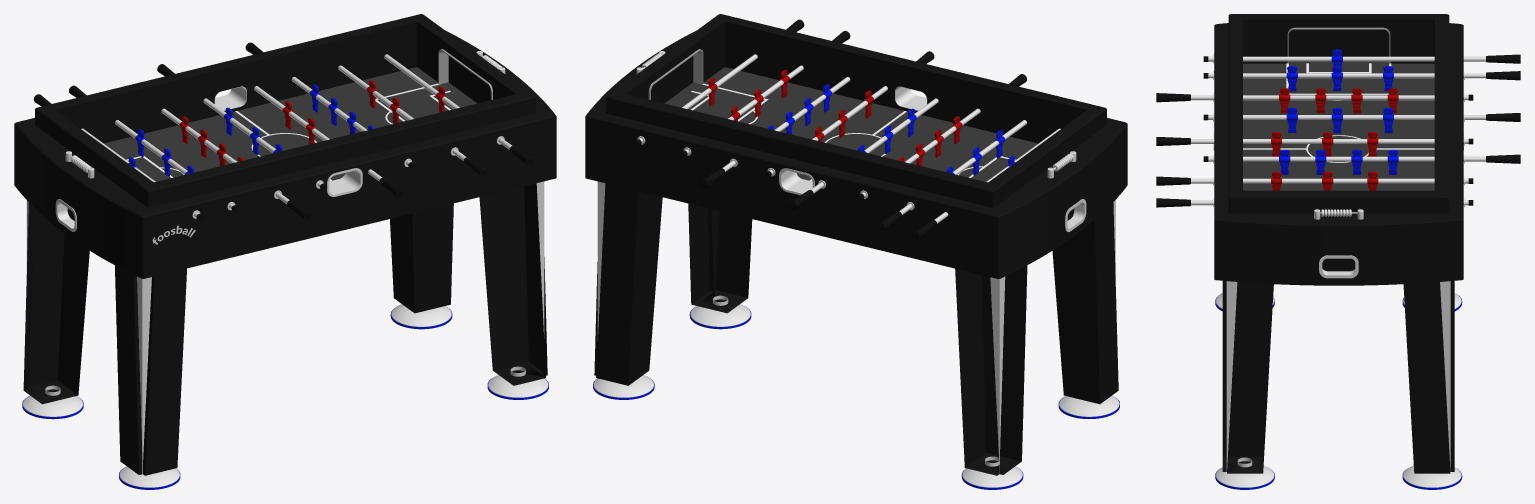
Rendered from foosball.glb.
3 renders of one model, left to right at view 1: azimuth 30°, elevation 25°; view 2: azimuth 150°, elevation 25°; view 3: azimuth 270°, elevation 25°, orthographic. The views are drawn at different scales.
Parts seen in each view (by area): view 1: Object_189, Box017_87, Plane002_86, Box023_6, Box024_18, Box025_10, Box026_17, Object_18, Box013_90, Line003_13, Line002_21, Line004_16 (+10 smaller); view 2: Object_189, Box017_87, Plane002_86, Box025_10, Box026_17, Box023_6, Box024_18, Object_26, Box013_90, Line002_21, Line003_13, Line001_9 (+10 smaller); view 3: Object_189, Box017_87, Plane002_86, Box026_17, Box024_18, foosball elements071_73, foosball elements059_92, foosball elements076_68, foosball elements074_70, foosball elements075_69, foosball elements087_57, foosball elements081_63 (+8 smaller).
Boxes of the visible parts, <box> form: Object_189: <box>14,31,556,278</box>; Box017_87: <box>35,14,535,207</box>; Plane002_86: <box>104,67,477,181</box>; Box023_6: <box>115,265,186,475</box>; Box024_18: <box>479,183,547,385</box>; Box025_10: <box>23,203,89,404</box>; Box026_17: <box>390,203,453,313</box>; Object_18: <box>137,276,151,474</box>; Box013_90: <box>214,86,362,196</box>; Line003_13: <box>22,385,83,416</box>; Line002_21: <box>488,366,548,397</box>; Line004_16: <box>391,304,451,326</box>; Object_189: <box>585,31,1127,278</box>; Box017_87: <box>606,14,1106,207</box>; Plane002_86: <box>664,67,1037,181</box>; Box025_10: <box>955,265,1027,475</box>; Box026_17: <box>594,183,662,385</box>; Box023_6: <box>1052,202,1118,404</box>; Box024_18: <box>688,203,752,313</box>; Object_26: <box>990,276,1005,473</box>; Box013_90: <box>779,86,927,195</box>; Line002_21: <box>690,295,750,326</box>; Line003_13: <box>962,456,1022,487</box>; Line001_9: <box>1059,395,1119,416</box>; Object_189: <box>1214,23,1463,285</box>; Box017_87: <box>1228,14,1449,213</box>; Plane002_86: <box>1243,61,1434,190</box>; Box026_17: <box>1403,281,1454,473</box>; Box024_18: <box>1222,280,1273,473</box>; foosball elements071_73: <box>1203,54,1520,63</box>; foosball elements059_92: <box>1156,176,1473,185</box>; foosball elements076_68: <box>1203,71,1520,80</box>; foosball elements074_70: <box>1156,93,1473,102</box>; foosball elements075_69: <box>1203,154,1520,163</box>; foosball elements087_57: <box>1156,137,1473,145</box>; foosball elements081_63: <box>1203,113,1520,121</box>.
Size of the model in its own units: 1.36 by 0.87 by 1.01.
